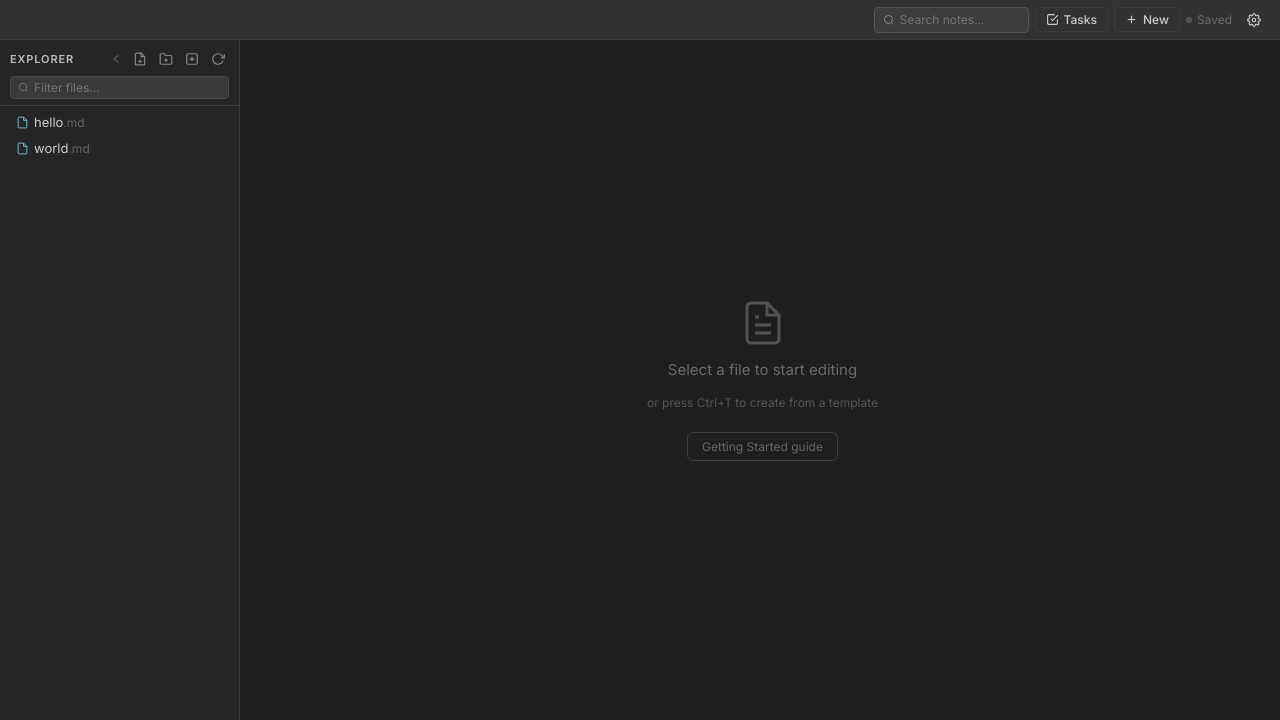
Test: App › settings modal › opens settings modal when Settings button is clicked
The width and height of the screenshot is (1280, 720).
Click the button titled "Settings" at (1254, 20), box [1238,8,1270,32]
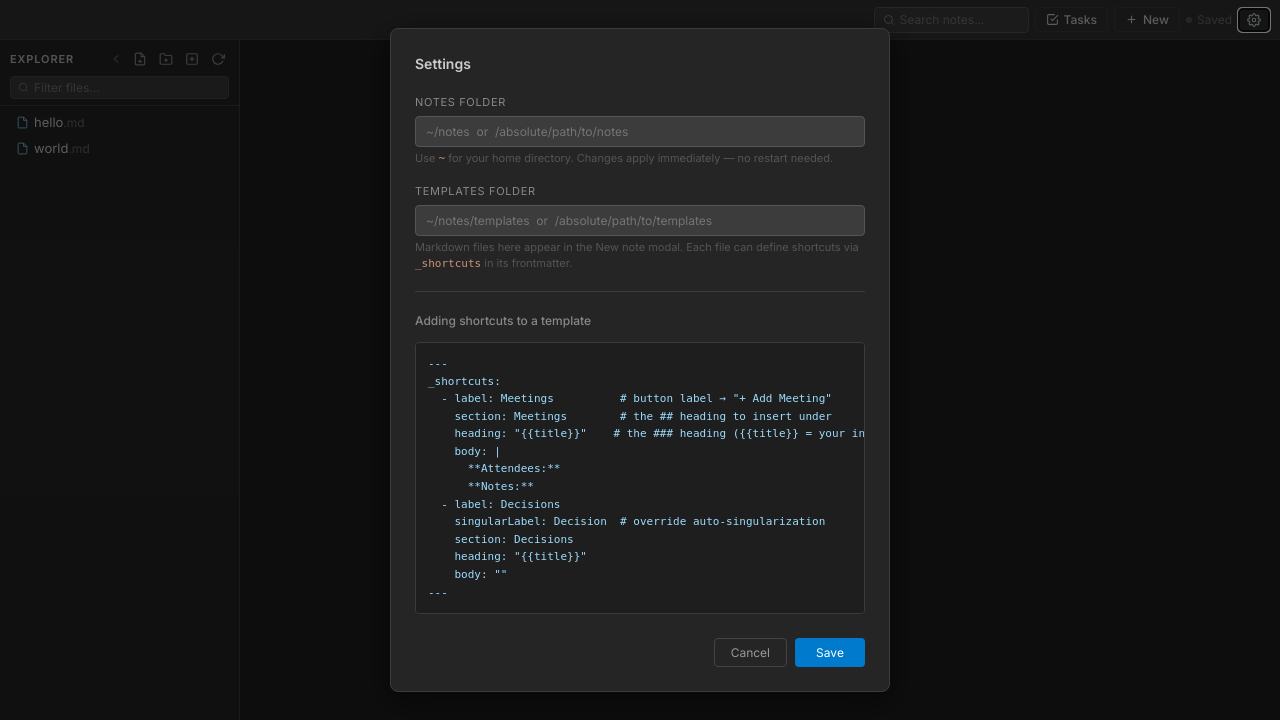
Expected: the heading "Settings" is shown, [415,55,471,72]
